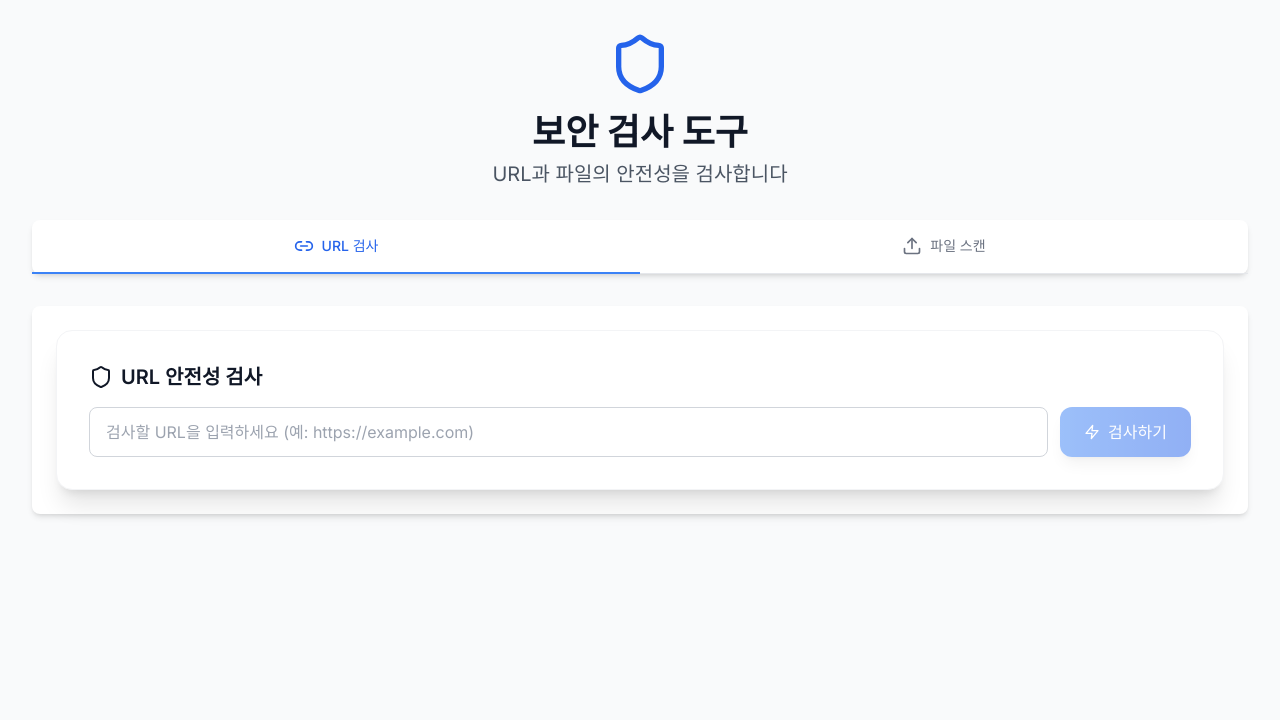
Test: Home Page › displays analysis results
The image size is (1280, 720).
Type "https://example.com" into the field with placeholder "검사할 URL을 입력하세요 (예: https://example.com)".
click(569, 432); type("https://example.com")  # box [89, 407, 1048, 457]
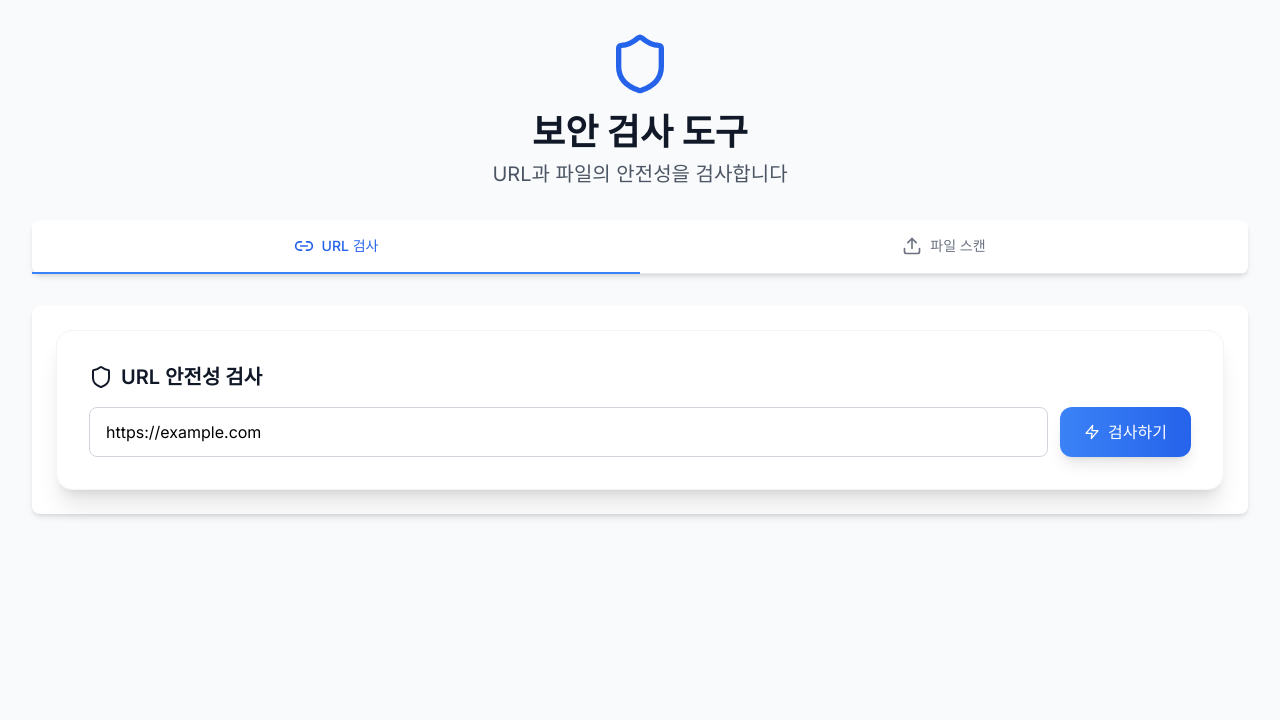
Click the button "검사하기".
click(1126, 432)  # box [1060, 407, 1191, 457]
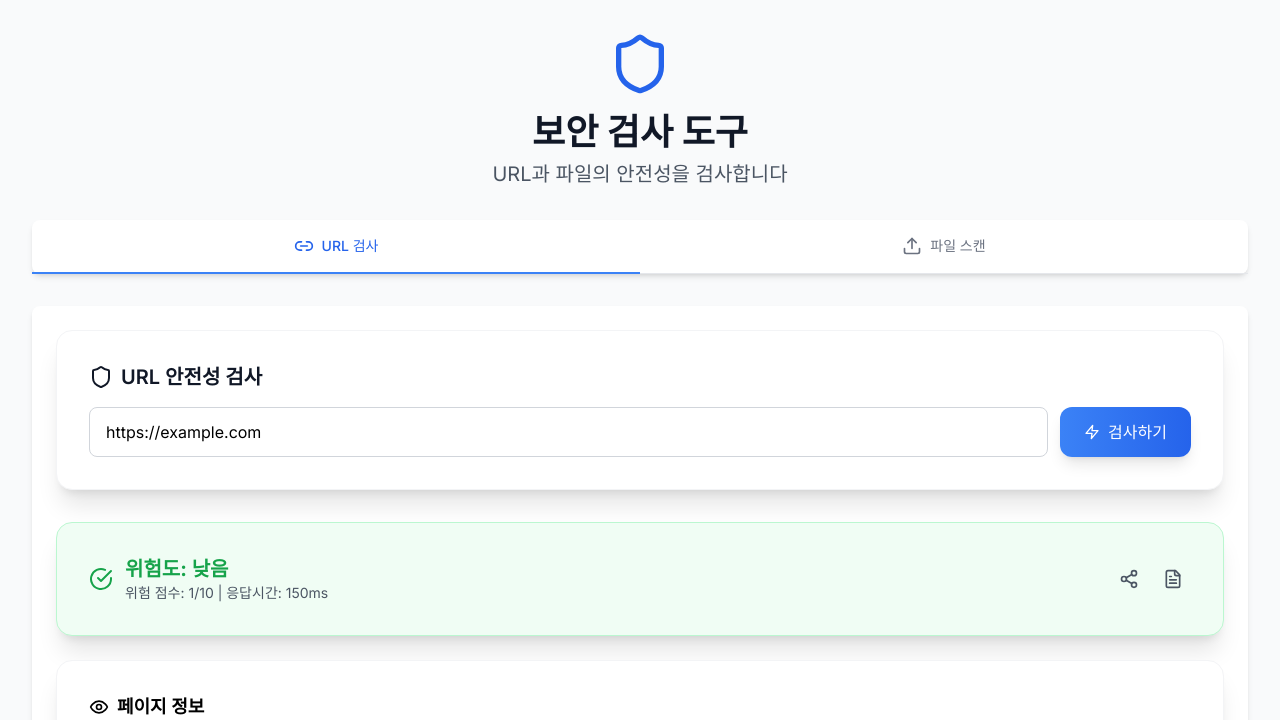
Result: the heading "위험도: 낮음" is shown at [125, 557, 228, 581]
